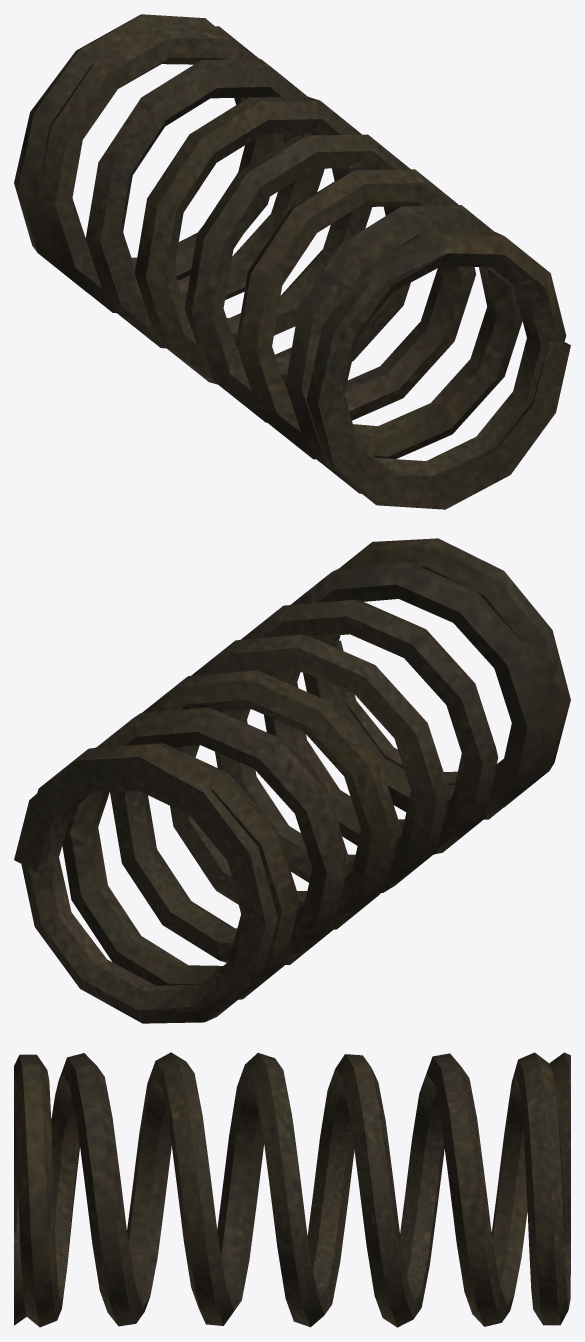
File: spring_mx_1_large.obj
3 views of the same model, one above another, from view 1: azimuth 30°, elevation 25°; view 2: azimuth 150°, elevation 25°; view 3: azimuth 270°, elevation 25° (orthographic). The views are drawn at different scales.
Parts seen in each view (by area): view 1: spring_mx_1_large; view 2: spring_mx_1_large; view 3: spring_mx_1_large.
Part boxes in pixels (x1=…): spring_mx_1_large: x1=14, y1=14, x2=570, y2=509; spring_mx_1_large: x1=14, y1=538, x2=570, y2=1023; spring_mx_1_large: x1=14, y1=1052, x2=570, y2=1327.
Size of the model in its own units: 0.138 by 0.138 by 0.278.
